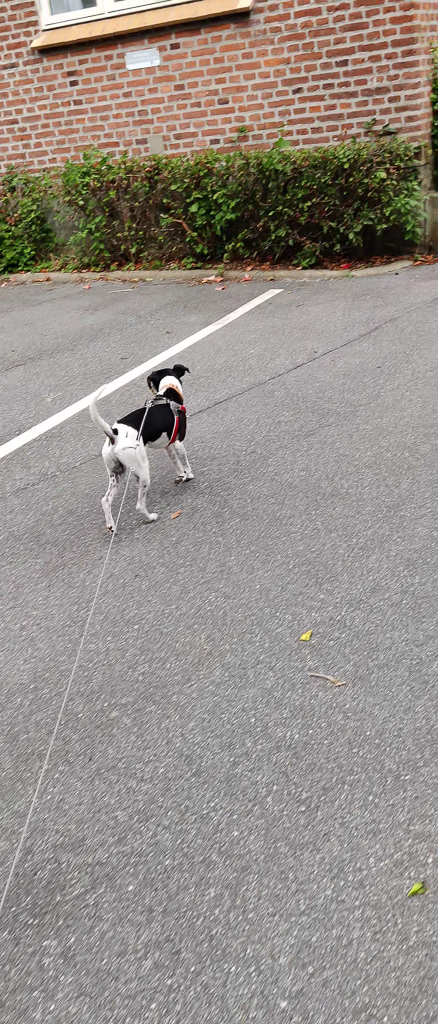Dog: (83, 359, 203, 545)
